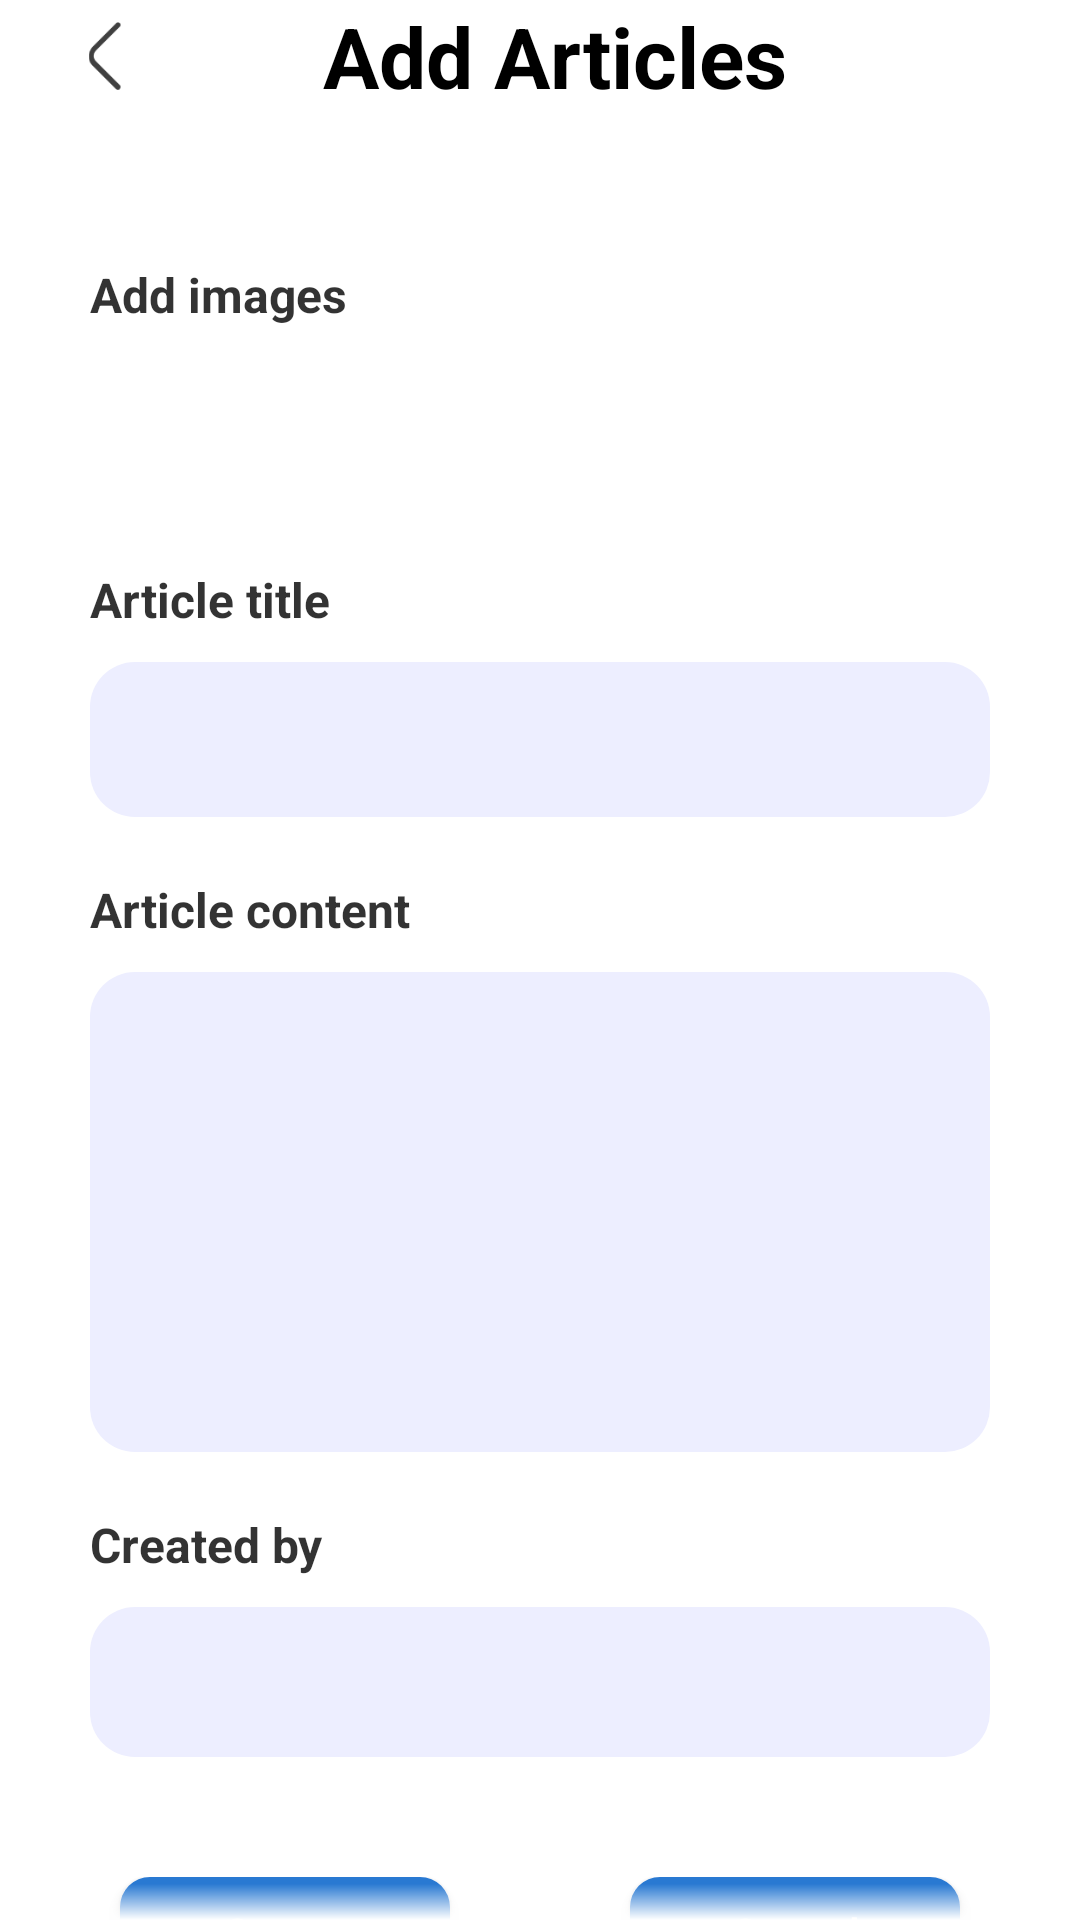

Screen size 1080px x 1920px. Icon name, then its box in pixels as (x1=x1, y1=y1, x2=x2, y2=y2):
back: (x1=89, y1=22, x2=121, y2=90)
